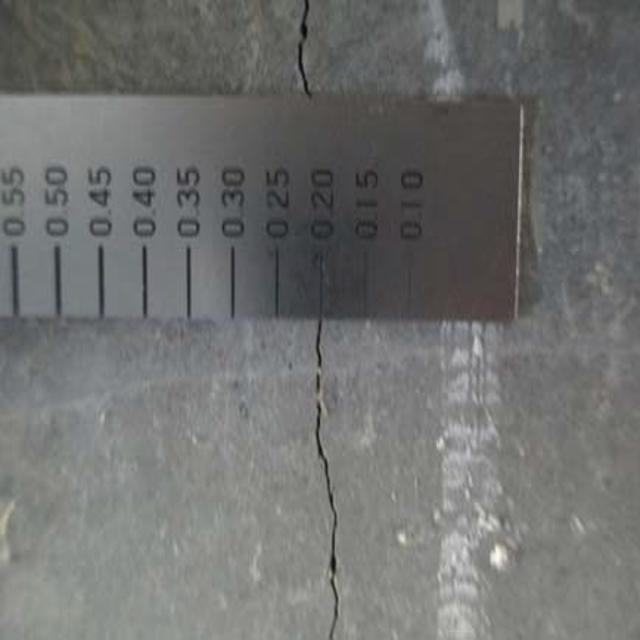crack: (283, 320, 374, 640), (280, 4, 339, 107)
